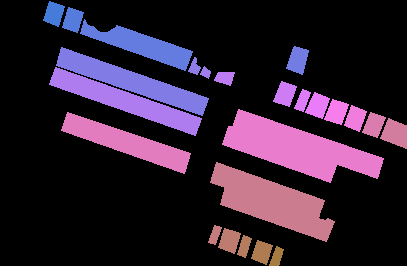parkingspot: (232, 109, 383, 178), (56, 47, 208, 115), (49, 67, 201, 135), (61, 112, 190, 173), (222, 126, 337, 182), (220, 186, 334, 241), (210, 162, 324, 217), (80, 19, 192, 70), (380, 118, 407, 148), (305, 92, 329, 118), (286, 46, 308, 74), (324, 99, 348, 124), (273, 81, 296, 106), (362, 112, 385, 137), (344, 105, 366, 131), (218, 228, 240, 253), (62, 7, 83, 32), (43, 1, 64, 26), (251, 240, 272, 264), (294, 89, 310, 111), (237, 235, 251, 257), (269, 246, 283, 266), (214, 72, 234, 85), (208, 225, 221, 244), (188, 57, 200, 74), (200, 66, 210, 78)
